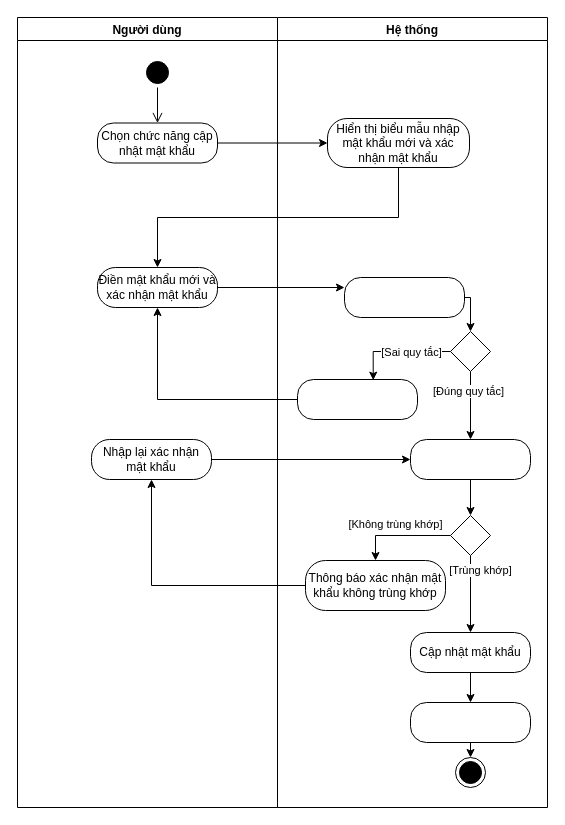
Image size: 565x825. Some labels were removed from this diagram. The shapes that lost their labels are listed below. From the top down, each one's centre as x and y in pixels, then its label:
the point at 404,297: Kiểm tra mật khẩu
the point at 357,399: Thông báo mật khẩu sai quy tắc
the point at 470,459: Kiểm tra xác nhận mật khẩu
the point at 470,722: Thông báo cập nhật thành công
